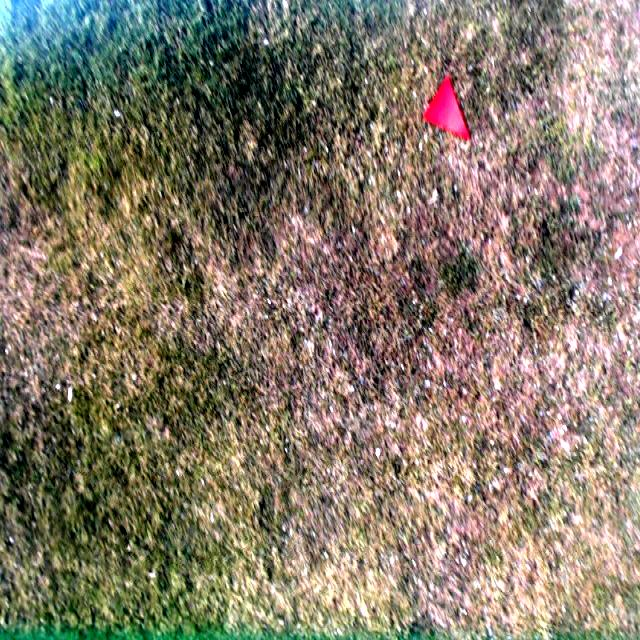red_triangle: (421, 75, 473, 146)
